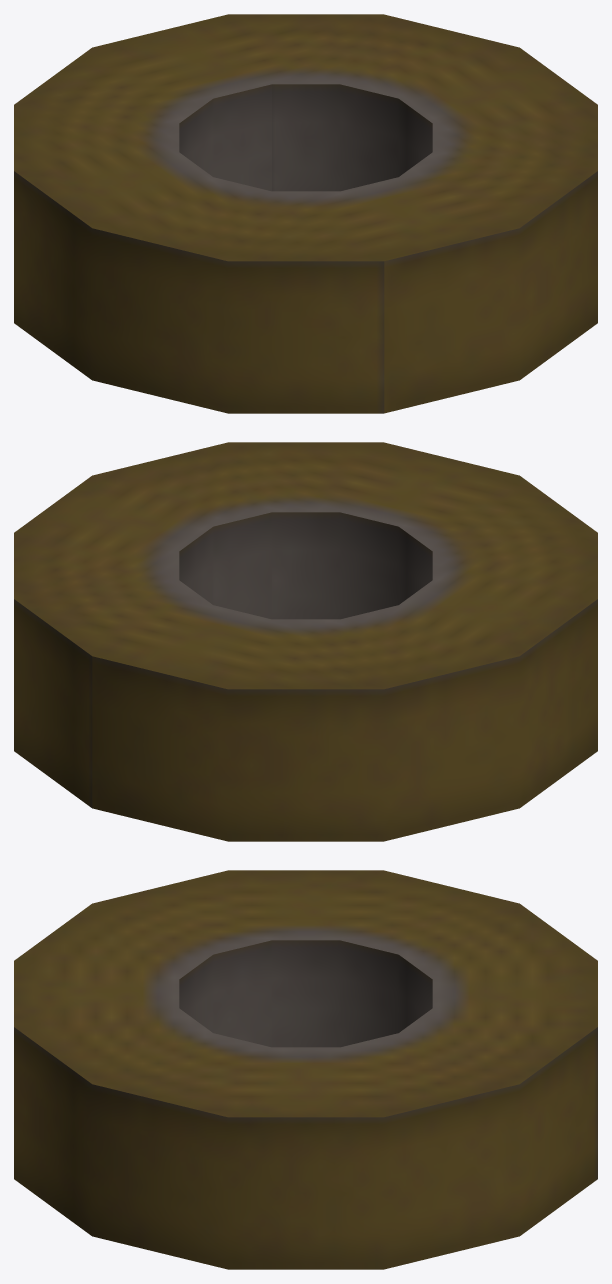
The model's file is electrical_tape_etx_1_1.dae.
3 renders of one model, top to bottom at view 1: azimuth 30°, elevation 25°; view 2: azimuth 150°, elevation 25°; view 3: azimuth 270°, elevation 25°, orthographic.
Visible parts, largest first — view 1: electrical_tape_etx_1_1; view 2: electrical_tape_etx_1_1; view 3: electrical_tape_etx_1_1.
Part boxes in pixels (bbox=[...]): electrical_tape_etx_1_1: bbox=[14, 14, 597, 413]; electrical_tape_etx_1_1: bbox=[14, 442, 597, 841]; electrical_tape_etx_1_1: bbox=[14, 870, 597, 1269].
Bounding box in the file's own units: 0.1043 × 0.1043 × 0.03.
1 material, 1 textured.
